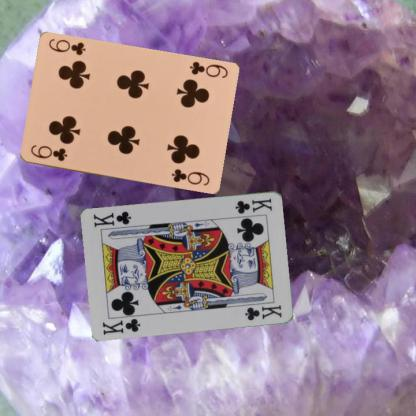6c: (186, 59, 228, 80), (28, 142, 68, 163)
Kc: (232, 195, 274, 215), (100, 316, 142, 336)
